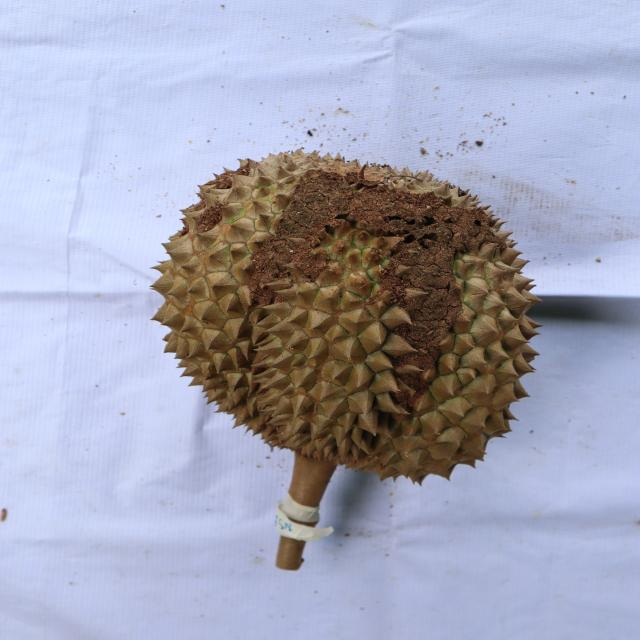defective: (147, 146, 540, 486)
